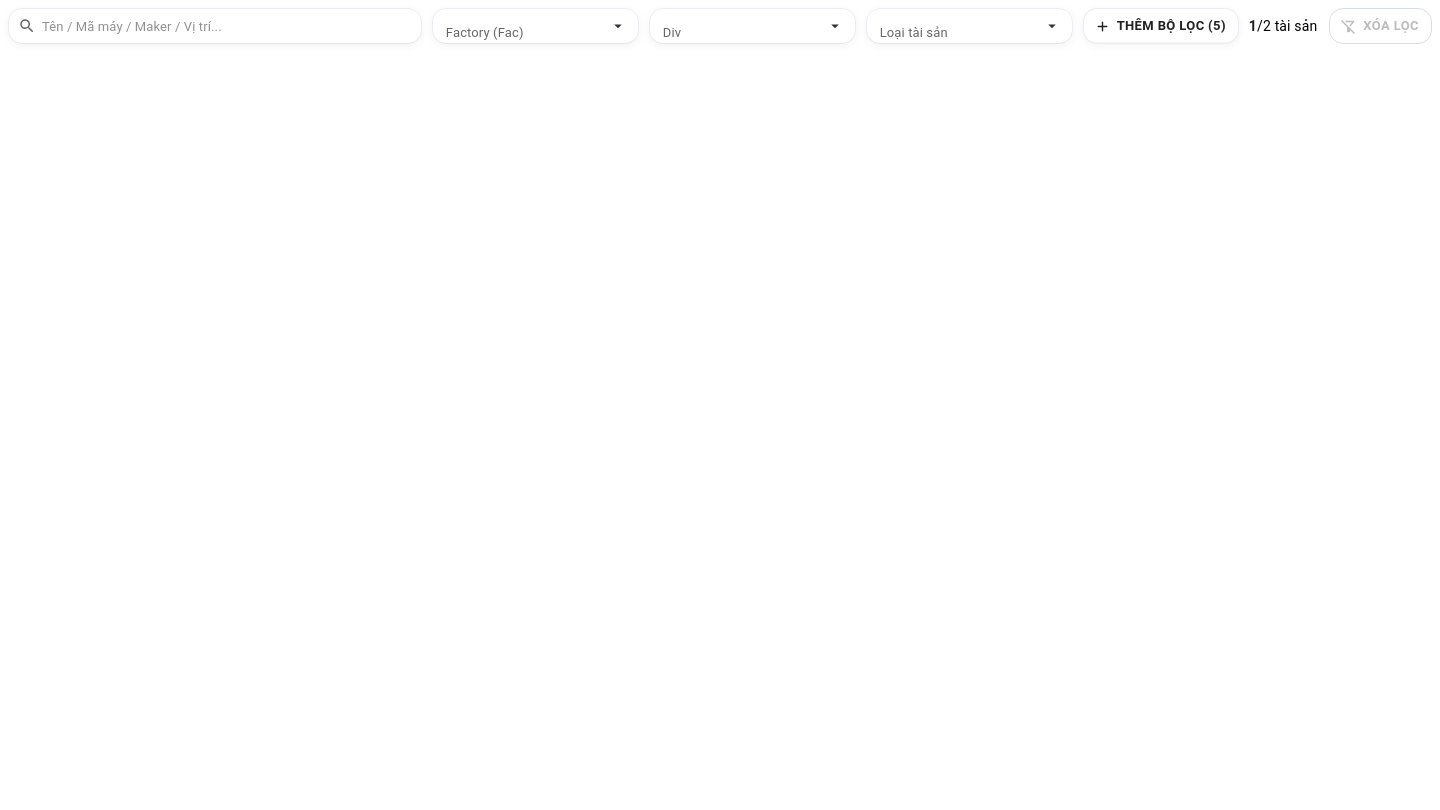
Test: FilterBar › "+ Thêm bộ lọc (N)": N = hidden fields; the popover holds all 5
Click the button "Thêm bộ lọc (5)" at coordinates (1161, 26), box x1=1083 y1=8 x2=1239 y2=44
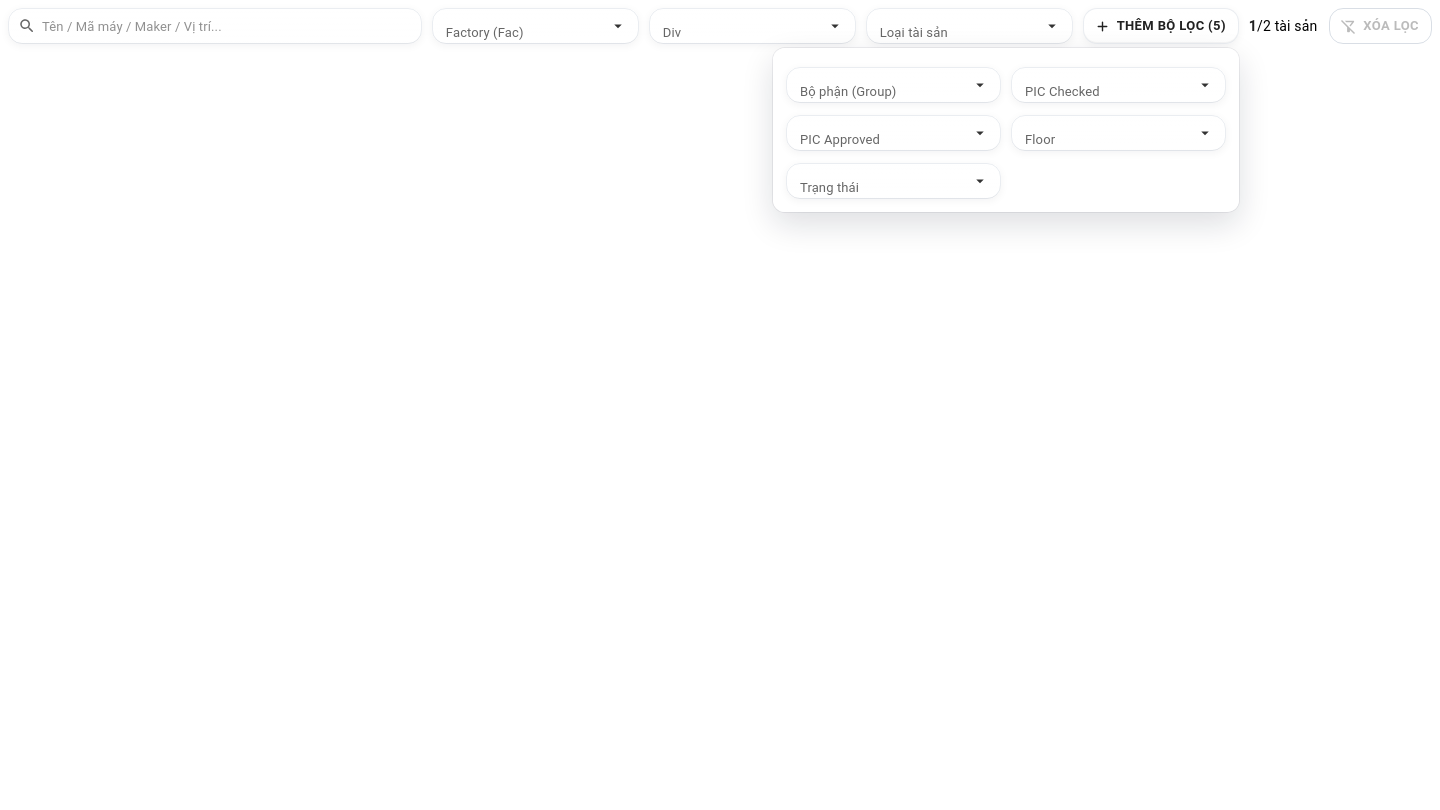
Check: the dropdown labelled "Bộ phận (Group)" is shown, box x1=795 y1=76 x2=962 y2=94
Check: the dropdown labelled "PIC Checked" is shown, box x1=1020 y1=76 x2=1187 y2=94
Check: the dropdown labelled "PIC Approved" is shown, box x1=795 y1=124 x2=962 y2=142
